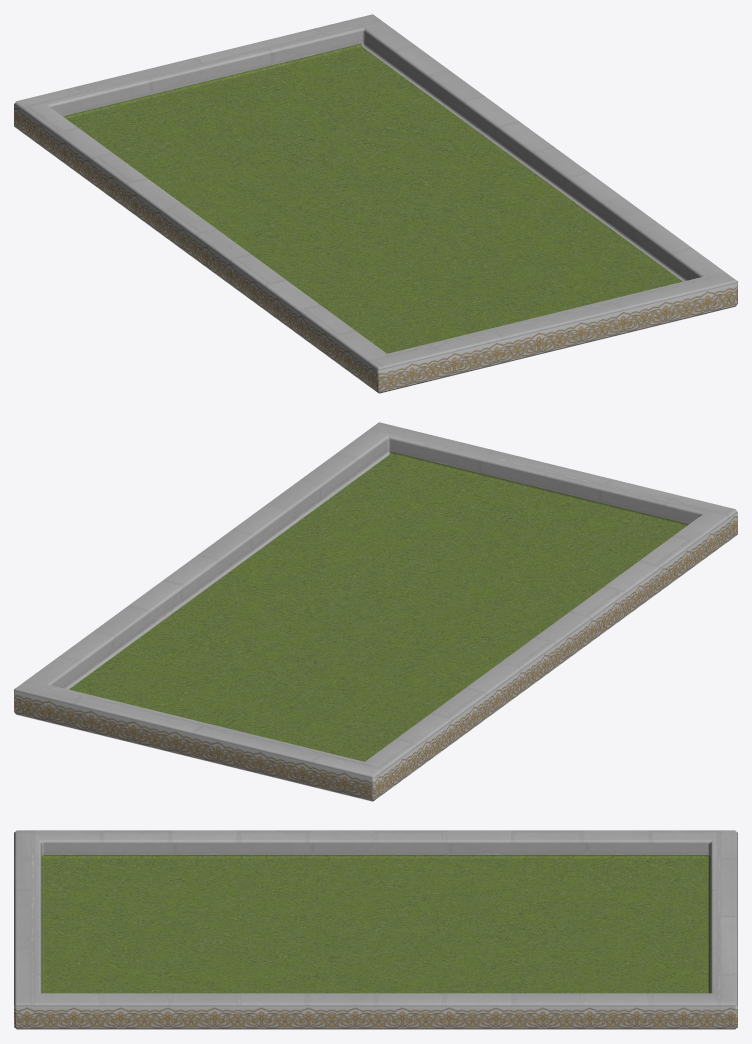
Rendered from SM_small_garden.glb.
The picture shows the model from 3 angles, top to bottom: view 1: azimuth 30°, elevation 25°; view 2: azimuth 150°, elevation 25°; view 3: azimuth 270°, elevation 25°; orthographic projection.
Visible parts, largest first — view 1: SM_small_garden; view 2: SM_small_garden; view 3: SM_small_garden.
Part boxes in pixels (x1,y1,x2,y2): SM_small_garden: (14,14,737,393); SM_small_garden: (14,422,737,801); SM_small_garden: (14,830,737,1029).
Bounding box in the file's own units: 3.01 × 0.2158 × 5.28.
Materials: 3 (3 with a texture image).
